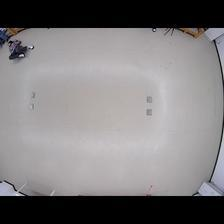fall: (6, 38, 35, 60)
